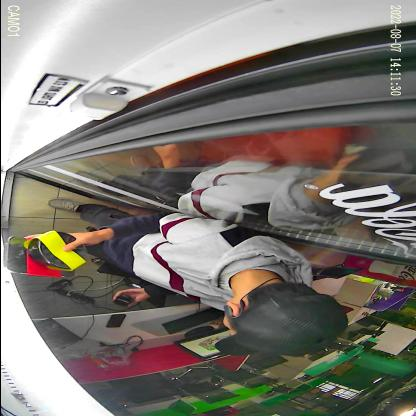red: (3, 236, 75, 278)
yellow: (24, 231, 86, 271)
